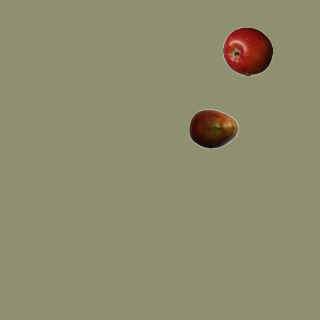Apple Braeburn: (222, 26, 272, 76)
Mango Red: (188, 103, 238, 153)
